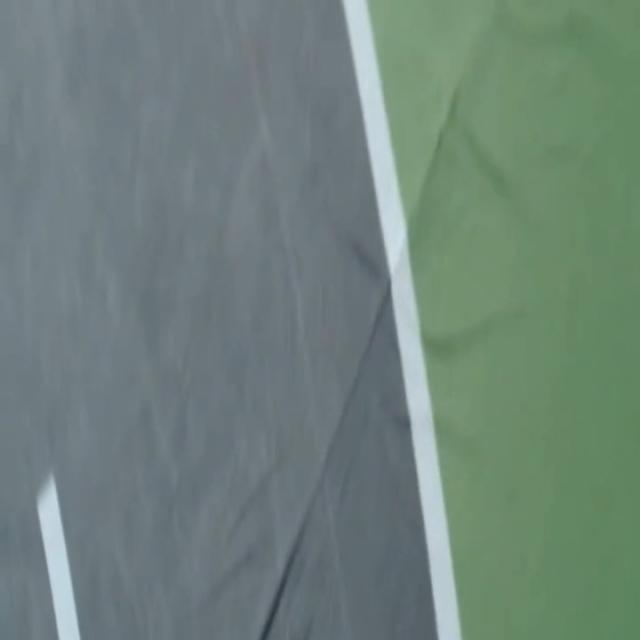center: (37, 474, 80, 639)
right: (343, 0, 460, 639)
